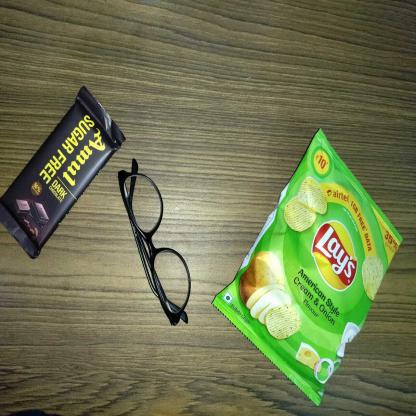cream_and_onion: (207, 124, 403, 408)
